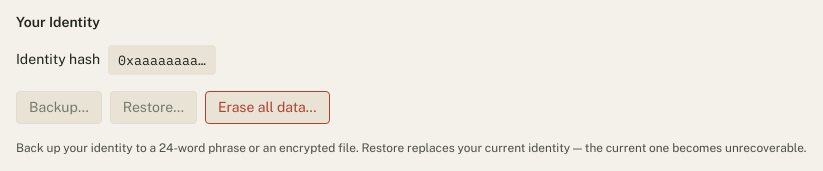
it: Backup wizard — step 1 (type picker) › Continue button is disabled until a type is selected
The width and height of the screenshot is (823, 171).
Expected: the button "0xaaaaaaaa…" is shown, [108,45,216,75]
Step 1. Click the button "Backup…" → click(59, 107), box [16,91,102,124]
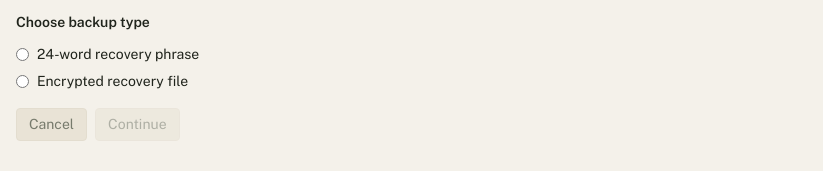
Expected: the button "Continue" is disabled, [95,108,180,141]
Step 2. Click the radio button labelled "24-word recovery phrase" → click(22, 54), box [16,48,29,61]
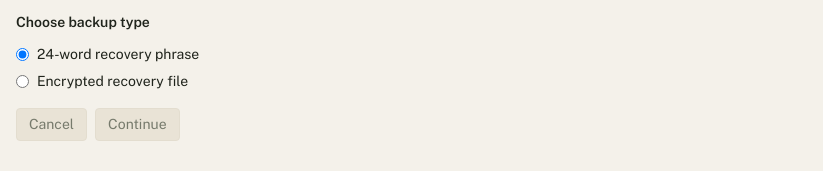
Expected: the button "Continue" is enabled, [95,108,180,141]
